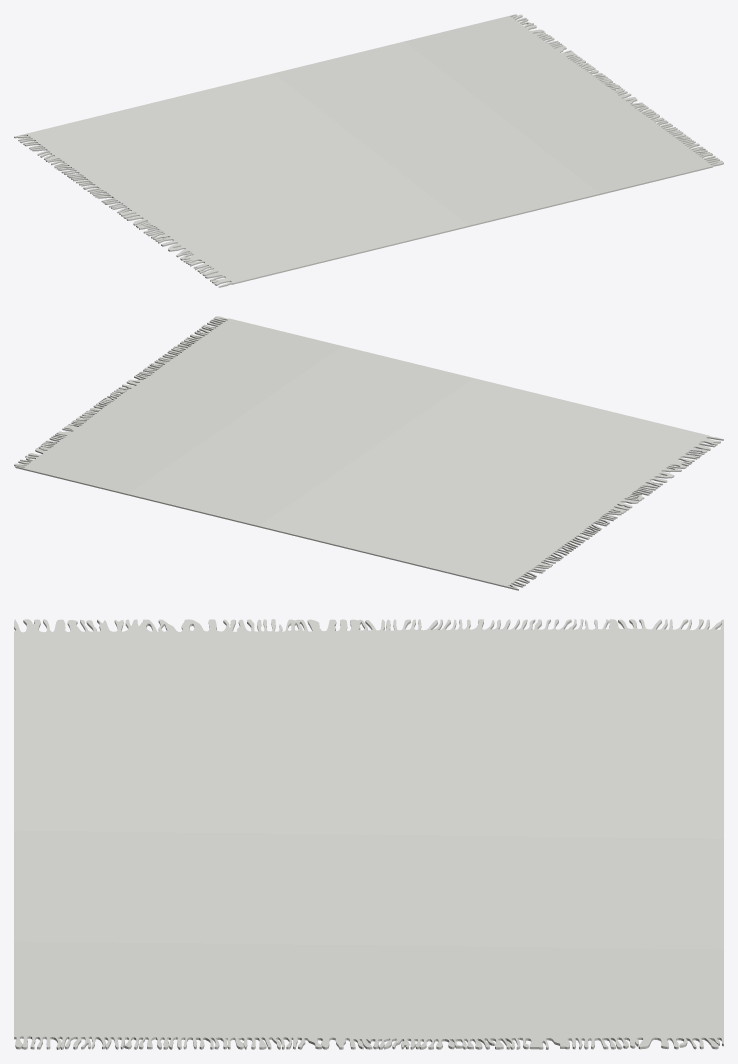
The model's file is carpet_5.glb.
3 renders of one model, top to bottom at view 1: azimuth 30°, elevation 25°; view 2: azimuth 150°, elevation 25°; view 3: azimuth 270°, elevation 25°, orthographic. The views are drawn at different scales.
Parts seen in each view (by area): view 1: root; view 2: root; view 3: root.
Part boxes in pixels (x1,y1,x2,y2): root: (14, 14, 723, 287); root: (14, 316, 723, 590); root: (14, 619, 723, 1049).
Bounding box in the file's own units: 2 × 0.005 × 1.4.
Materials: 1 (1 with a texture image).
